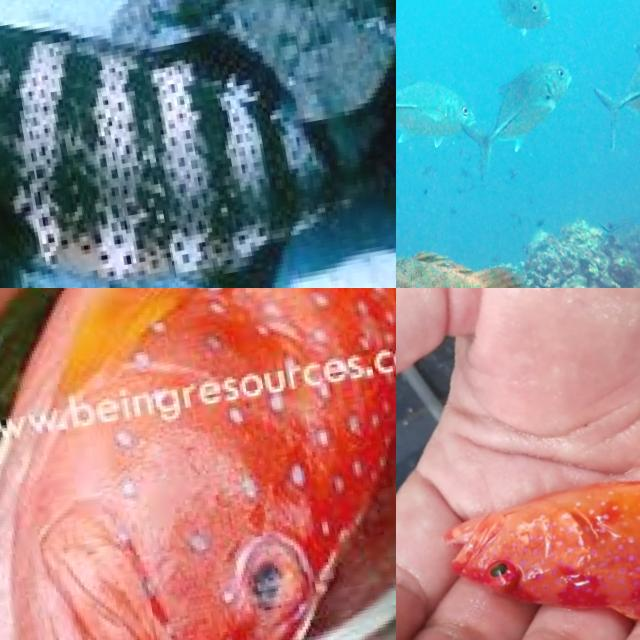Plectropomus-leopardus: (0, 288, 396, 640), (0, 0, 396, 288), (444, 409, 640, 640), (396, 177, 640, 288)
